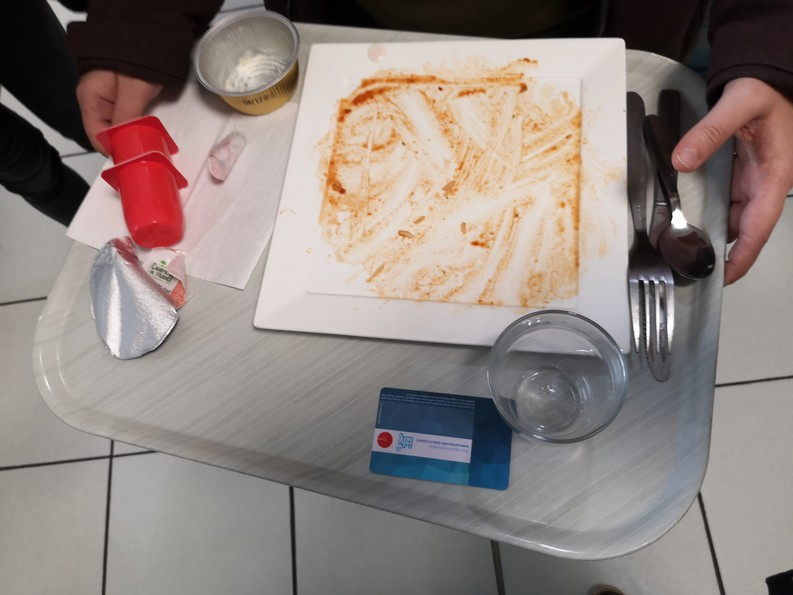cup: (474, 308, 634, 448)
cutlery: (621, 79, 733, 388)
trash: (94, 114, 196, 252), (82, 243, 193, 350), (191, 9, 304, 108), (204, 129, 249, 180)
